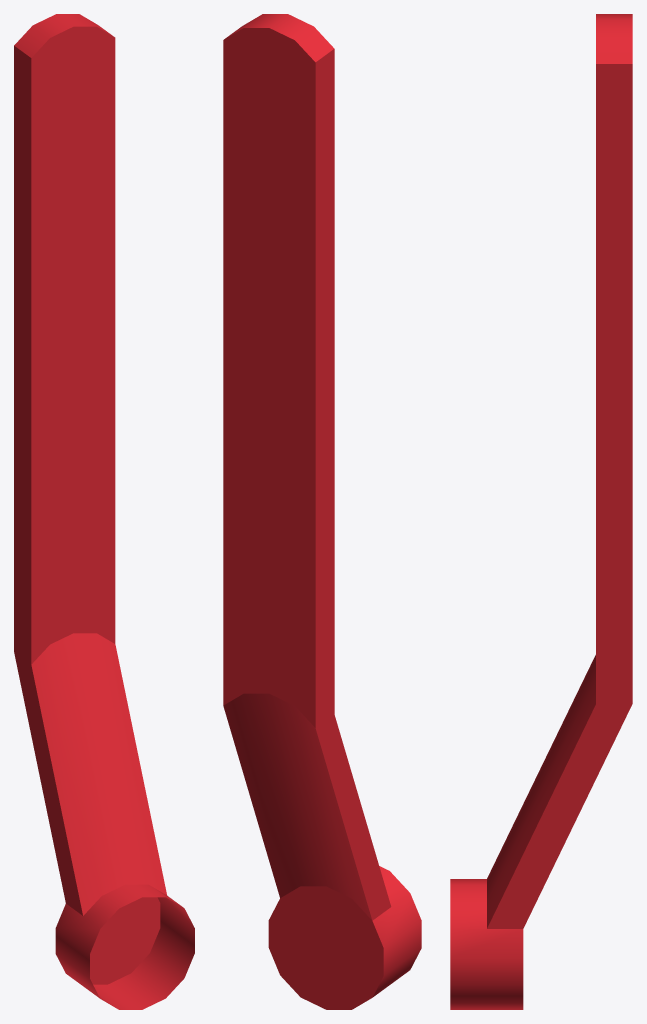
The model's file is Handle_Big.fbx.
3 views of the same model, side by side, from view 1: azimuth 30°, elevation 25°; view 2: azimuth 150°, elevation 25°; view 3: azimuth 270°, elevation 25° (orthographic). The views are drawn at different scales.
Parts seen in each view (by area): view 1: Handle_Big; view 2: Handle_Big; view 3: Handle_Big.
Part boxes in pixels (x1=…): Handle_Big: x1=14, y1=14, x2=194, y2=1009; Handle_Big: x1=223, y1=14, x2=421, y2=1009; Handle_Big: x1=450, y1=14, x2=632, y2=1009.
Bounding box in the file's own units: 2.44 × 20.75 × 3.48.
